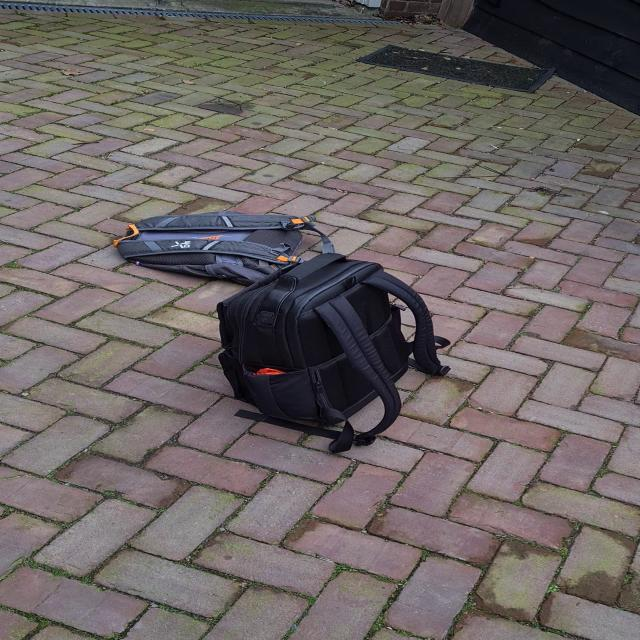backpack: (226, 250, 453, 456), (98, 208, 327, 280)
